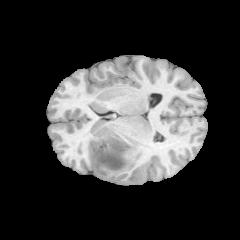glioma: (88, 134, 137, 176)
